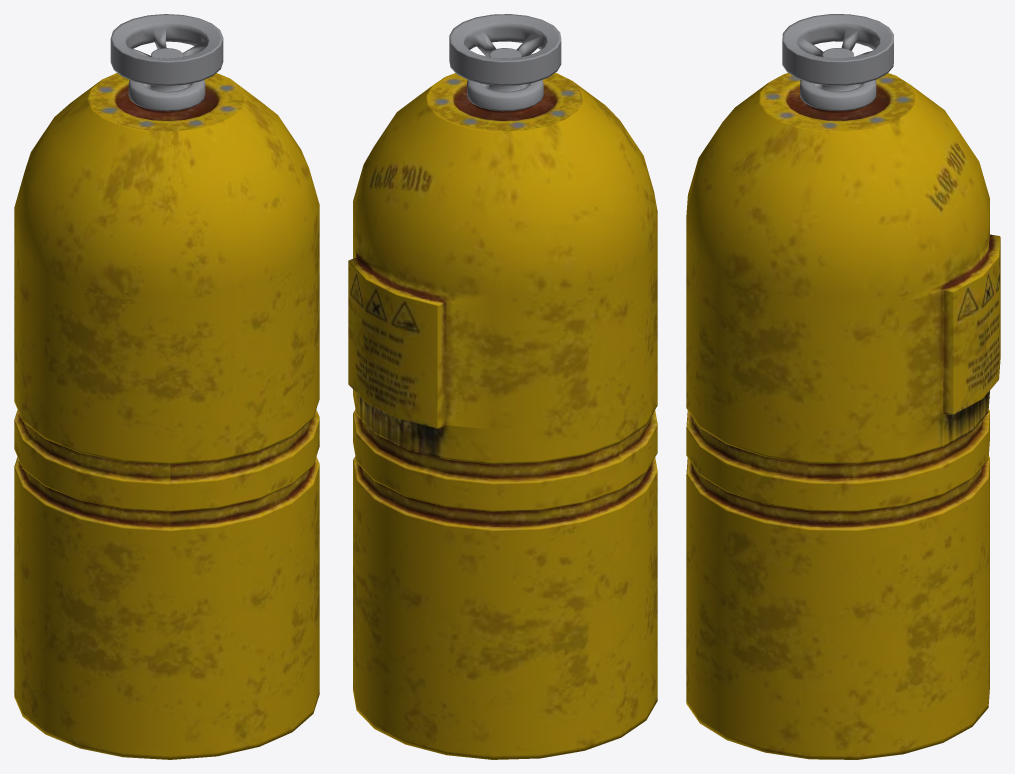
The model's file is gas-bottle-yellow.glb.
The picture shows the model from 3 angles, left to right: view 1: azimuth 30°, elevation 25°; view 2: azimuth 150°, elevation 25°; view 3: azimuth 270°, elevation 25°; orthographic projection.
Parts seen in each view (by area): view 1: Bottle_low, Cap_low; view 2: Bottle_low, Cap_low; view 3: Bottle_low, Cap_low.
Boxes of the visible parts, x1=… form: Bottle_low: x1=14, y1=73, x2=319, y2=759; Cap_low: x1=110, y1=14, x2=223, y2=111; Bottle_low: x1=348, y1=73, x2=657, y2=759; Cap_low: x1=449, y1=14, x2=561, y2=111; Bottle_low: x1=686, y1=73, x2=1000, y2=759; Cap_low: x1=782, y1=14, x2=893, y2=110.
Size of the model in its own units: 0.2507 by 0.6 by 0.2594.
2 materials, 1 textured.
